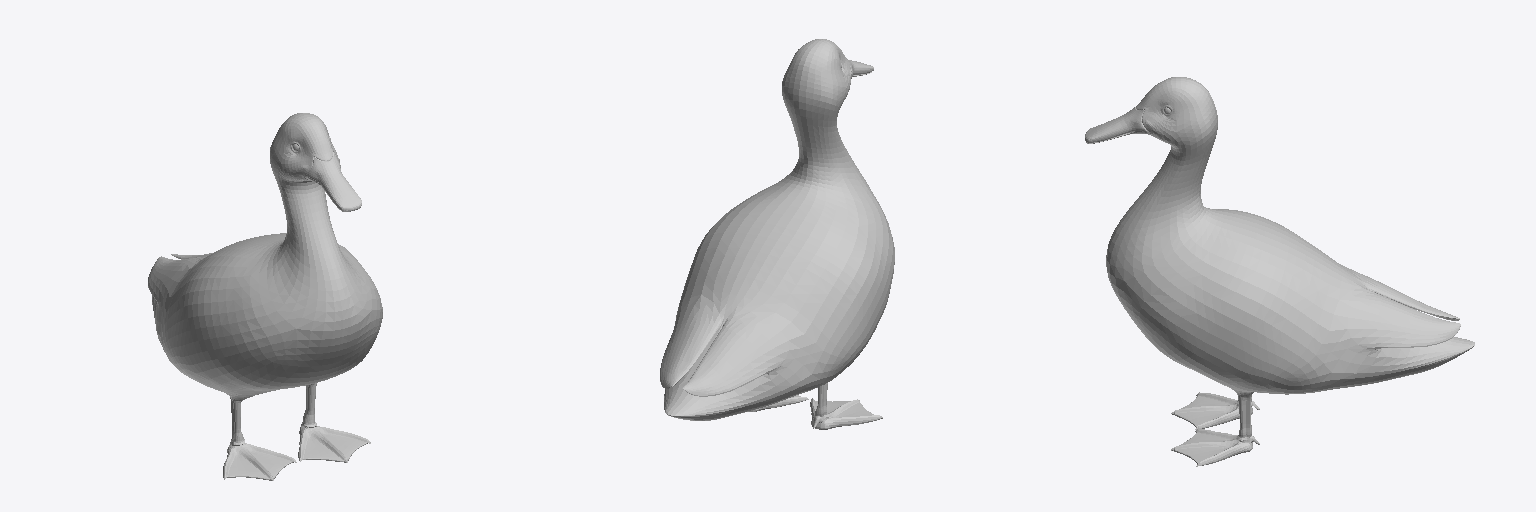
The model's file is duck.obj.
3 renders of one model, left to right at view 1: azimuth 30°, elevation 25°; view 2: azimuth 150°, elevation 25°; view 3: azimuth 270°, elevation 25°, orthographic.
Visible parts, largest first — view 1: 12248_Bird_v1_L2.001; view 2: 12248_Bird_v1_L2.001; view 3: 12248_Bird_v1_L2.001.
Boxes of the visible parts, x1=… form: 12248_Bird_v1_L2.001: x1=148, y1=113, x2=382, y2=480; 12248_Bird_v1_L2.001: x1=660, y1=39, x2=894, y2=429; 12248_Bird_v1_L2.001: x1=1085, y1=77, x2=1474, y2=466.
Bounding box in the file's own units: 13.42 × 26.64 × 26.66.